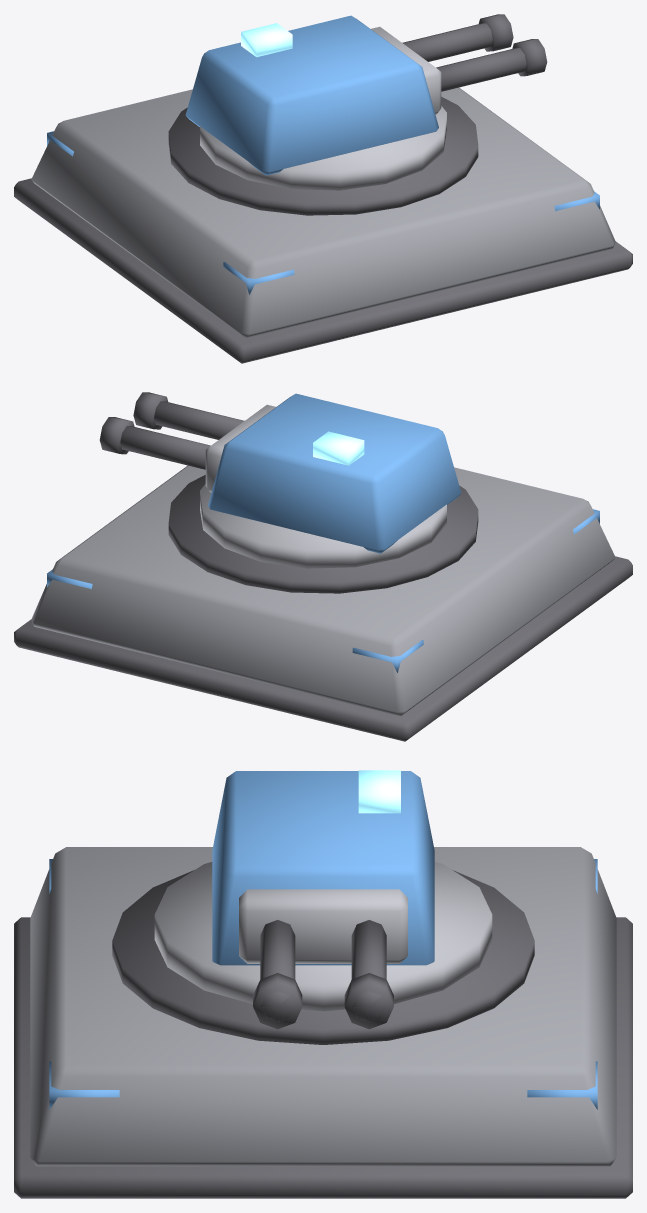
Rendered from turret.glb.
3 views of the same model, one above another, from view 1: azimuth 30°, elevation 25°; view 2: azimuth 150°, elevation 25°; view 3: azimuth 270°, elevation 25° (orthographic). The views are drawn at different scales.
Visible parts, largest first — view 1: body, turret; view 2: body, turret; view 3: body, turret.
Part boxes in pixels (box(x1,y1,x2,y2)): body: box(14, 87, 632, 363); turret: box(185, 14, 547, 190); body: box(14, 465, 632, 741); turret: box(99, 392, 461, 568); body: box(14, 847, 632, 1198); turret: box(154, 770, 492, 1029).
Bounding box in the file's own units: 0.88 × 0.415 × 0.88.
